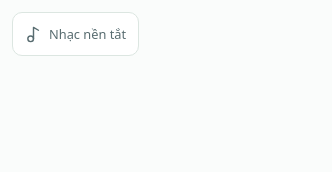
Test: optional background music › starts only on click, pauses when hidden and never resumes after the user turns it off
Later steps or results of the test are not shown.
Step 1. Click the button with aria-label "Bật nhạc nền" → (76, 34), box x1=12 y1=12 x2=139 y2=56
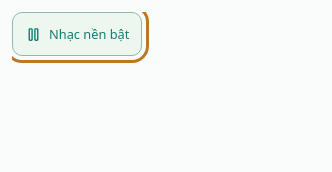
Now the button with aria-label "Tắt nhạc nền" is pressed, box x1=12 y1=12 x2=142 y2=56
